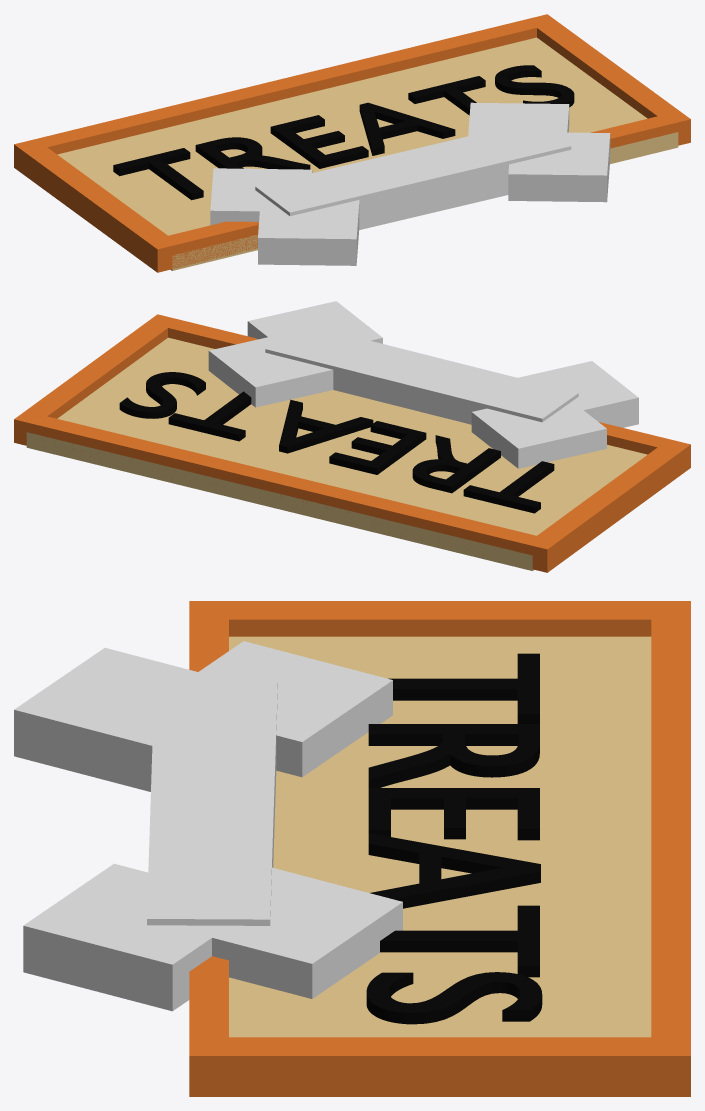
Rendered from TREATSIgn.fbx.
3 renders of one model, top to bottom at view 1: azimuth 30°, elevation 25°; view 2: azimuth 150°, elevation 25°; view 3: azimuth 270°, elevation 25°, orthographic. The views are drawn at different scales.
Visible parts, largest first — view 1: Plane, Plane.001, Cube.004, Text, Cube, Cube.003, Cube.001, Cube.002; view 2: Plane, Plane.001, Cube.004, Text, Cube.001, Cube.002, Cube, Cube.003; view 3: Plane, Plane.001, Text, Cube.004, Cube.003, Cube.002, Cube, Cube.001.
Part boxes in pixels (x1=…): Plane: x1=57, y1=37, x2=678, y2=270; Plane.001: x1=14, y1=14, x2=690, y2=272; Cube.004: x1=255, y1=120, x2=571, y2=229; Text: x1=113, y1=65, x2=574, y2=200; Cube: x1=258, y1=200, x2=359, y2=265; Cube.003: x1=508, y1=132, x2=610, y2=202; Cube.001: x1=210, y1=168, x2=312, y2=225; Cube.002: x1=468, y1=102, x2=569, y2=142; Plane: x1=26, y1=337, x2=647, y2=570; Plane.001: x1=14, y1=314, x2=690, y2=572; Cube.004: x1=265, y1=323, x2=578, y2=424; Text: x1=119, y1=372, x2=554, y2=513; Cube.001: x1=471, y1=401, x2=606, y2=468; Cube.002: x1=208, y1=332, x2=333, y2=407; Cube: x1=518, y1=361, x2=638, y2=427; Cube.003: x1=247, y1=301, x2=382, y2=343; Plane: x1=229, y1=636, x2=651, y2=1037; Plane.001: x1=189, y1=601, x2=690, y2=1096; Text: x1=366, y1=653, x2=542, y2=1024; Cube.004: x1=147, y1=680, x2=277, y2=925; Cube.003: x1=23, y1=863, x2=211, y2=1011; Cube.002: x1=165, y1=867, x2=402, y2=998; Cube: x1=14, y1=648, x2=197, y2=791; Cube.001: x1=185, y1=641, x2=392, y2=777.
Size of the model in its own units: 429 by 30.3 by 270.
